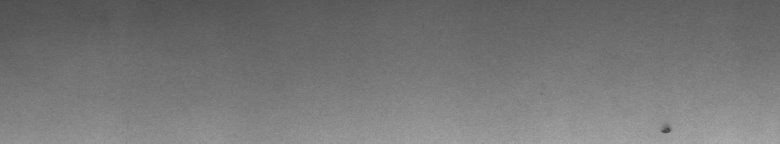fi: (659, 120, 675, 136)
